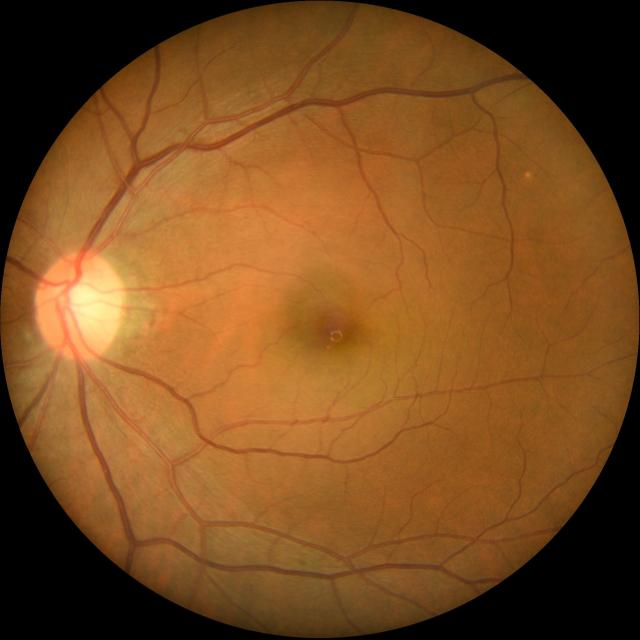OC: (60, 280, 100, 327)
OD: (36, 250, 124, 360)
